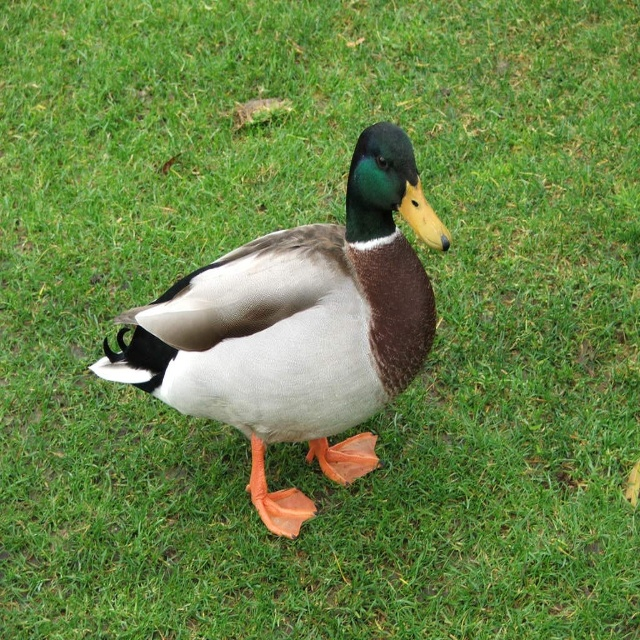Duck: (86, 118, 452, 537)
